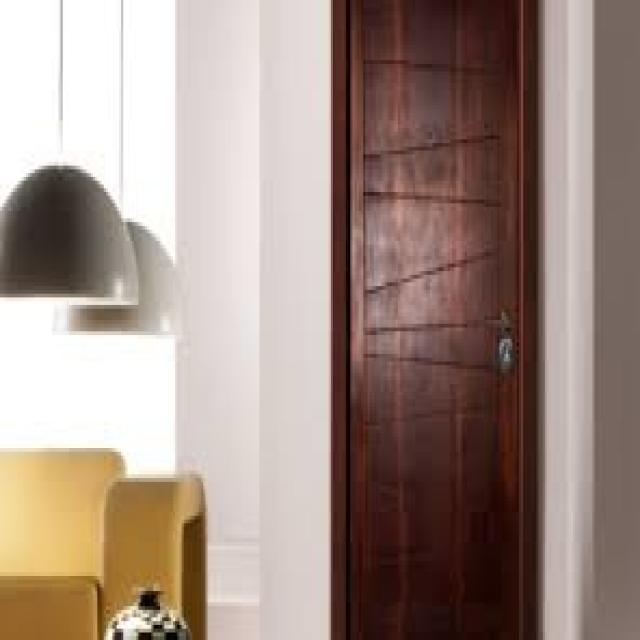door: (333, 0, 538, 640)
